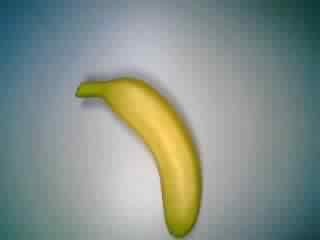banana: (73, 72, 206, 240)
